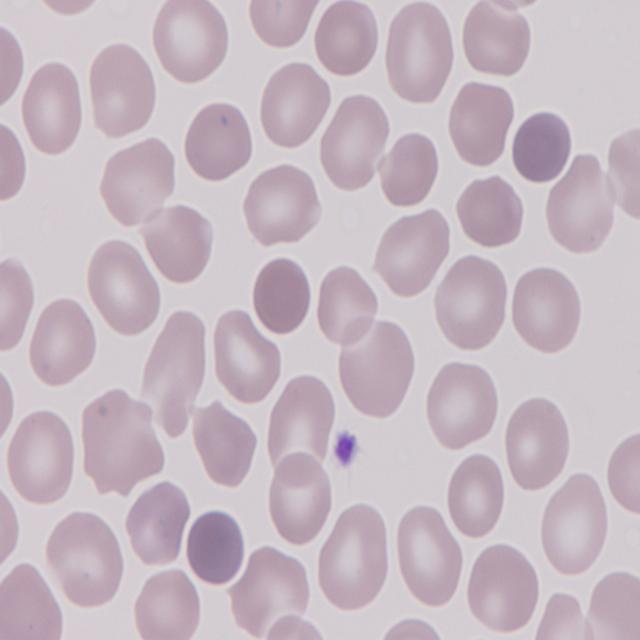RBC: (314, 503, 396, 617), (337, 317, 417, 427), (537, 472, 613, 587), (432, 252, 514, 358), (264, 373, 342, 483), (46, 506, 125, 614), (381, 2, 458, 109), (392, 507, 467, 610), (543, 156, 618, 258), (422, 355, 500, 453), (86, 238, 164, 336), (98, 134, 181, 226), (3, 406, 78, 506), (320, 92, 392, 195), (86, 41, 160, 140), (371, 208, 448, 302), (148, 0, 231, 87), (211, 313, 287, 408), (510, 261, 587, 354), (267, 450, 338, 550), (502, 397, 572, 498), (242, 164, 323, 251), (466, 540, 542, 632), (448, 78, 520, 174), (258, 60, 332, 152), (19, 64, 88, 160), (27, 298, 98, 390), (121, 478, 192, 570), (182, 96, 255, 185), (459, 0, 538, 80), (191, 404, 261, 494), (142, 202, 214, 288), (446, 450, 510, 542), (314, 265, 384, 349), (313, 0, 386, 77), (454, 170, 526, 248), (0, 561, 66, 640), (380, 129, 443, 211), (131, 567, 201, 640), (245, 0, 323, 56), (586, 574, 640, 640), (606, 425, 640, 524), (0, 256, 34, 349), (609, 127, 640, 228), (0, 117, 26, 208), (0, 15, 24, 112)
Spherocyte: (184, 505, 247, 590), (251, 253, 315, 336), (510, 109, 574, 184)
